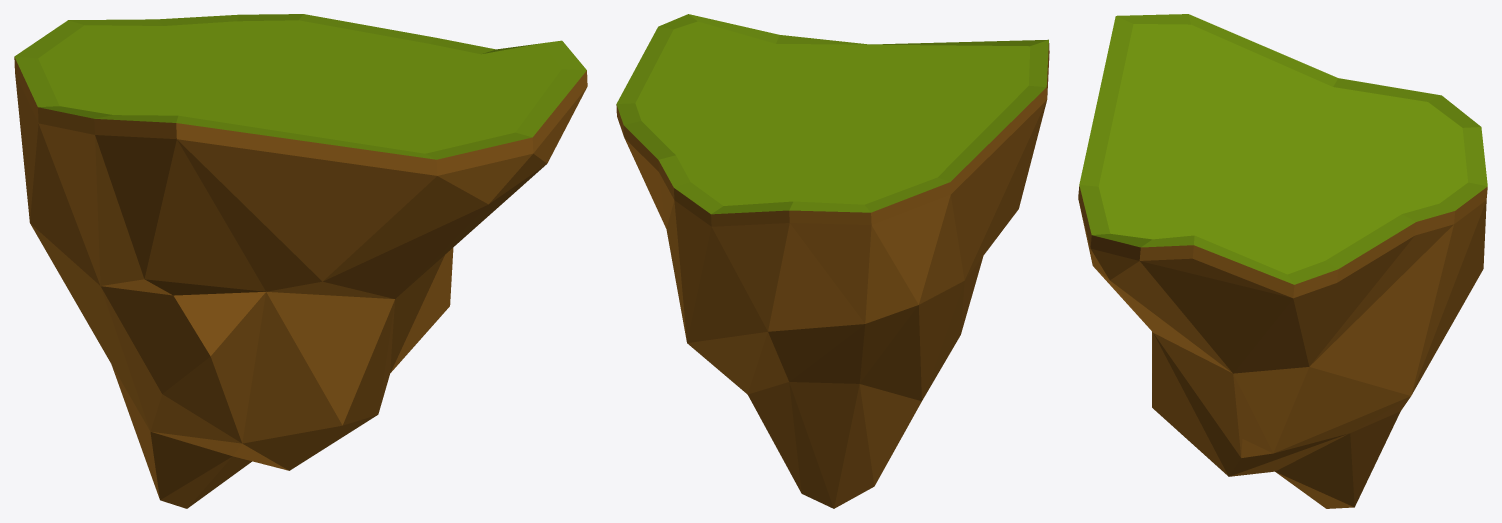
Rendered from ShadedIsland1.fbx.
The picture shows the model from 3 angles, left to right: view 1: azimuth 30°, elevation 25°; view 2: azimuth 150°, elevation 25°; view 3: azimuth 270°, elevation 25°; orthographic projection. The views are drawn at different scales.
Visible parts, largest first — view 1: Cone.006, Cone.007, Cone.008; view 2: Cone.006, Cone.007, Cone.008; view 3: Cone.006, Cone.007, Cone.008.
Boxes of the visible parts, x1=… form: Cone.006: x1=14, y1=57, x2=587, y2=508; Cone.007: x1=38, y1=20, x2=561, y2=153; Cone.008: x1=14, y1=14, x2=586, y2=159; Cone.006: x1=616, y1=43, x2=1049, y2=508; Cone.007: x1=635, y1=21, x2=1030, y2=205; Cone.008: x1=616, y1=14, x2=1048, y2=214; Cone.006: x1=1078, y1=186, x2=1487, y2=508; Cone.007: x1=1098, y1=24, x2=1468, y2=274; Cone.008: x1=1079, y1=14, x2=1487, y2=284.
Bounding box in the file's own units: 3170 × 3268 × 2775.
